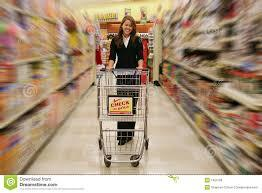with_basket: (94, 65, 152, 167)
without_mask: (120, 15, 135, 34)
